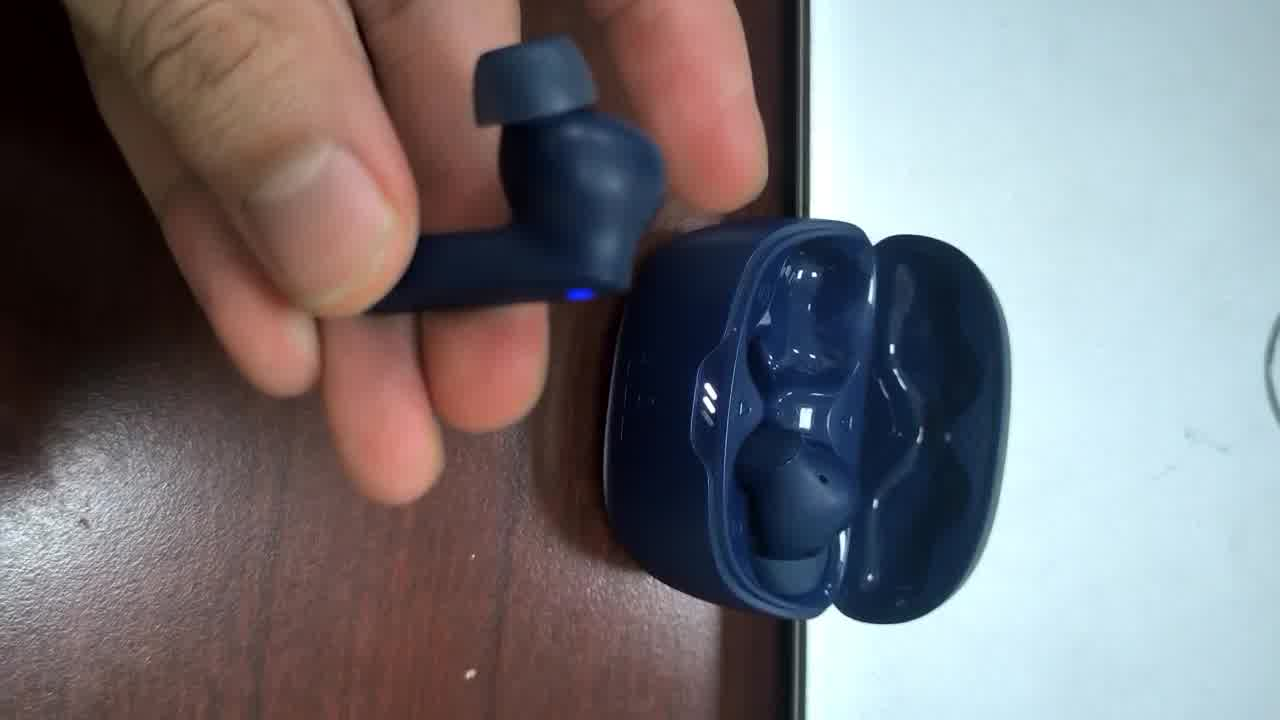Case: (603, 218, 1008, 622)
Earbud: (370, 36, 664, 311), (735, 422, 856, 594)
Empty_Slot: (729, 220, 872, 411)
